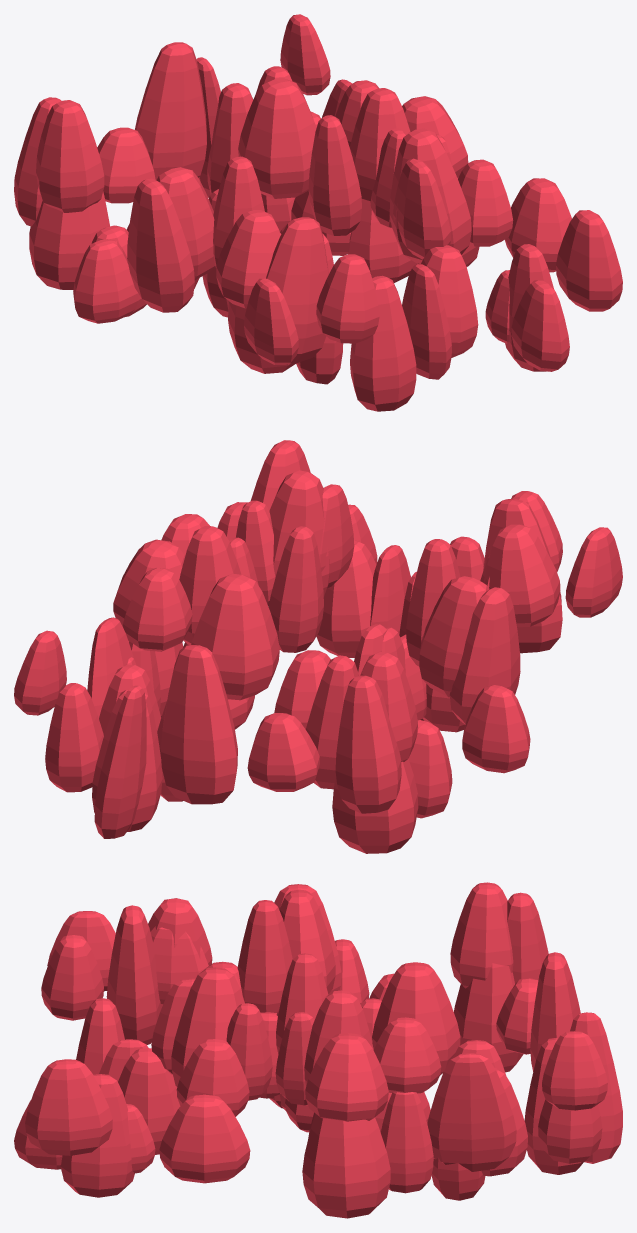
File: pinkcoral2.glb
3 renders of one model, top to bottom at view 1: azimuth 30°, elevation 25°; view 2: azimuth 150°, elevation 25°; view 3: azimuth 270°, elevation 25°, orthographic. The views are drawn at different scales.
Visible parts, largest first — view 1: coral 2; view 2: coral 2; view 3: coral 2.
Boxes of the visible parts, x1,y1,x2,y2 form: coral 2: [14, 14, 622, 411]; coral 2: [14, 440, 622, 853]; coral 2: [14, 882, 622, 1218].
Size of the model in its own units: 8.97 by 4.4 by 11.32.
1 material, 1 textured.
